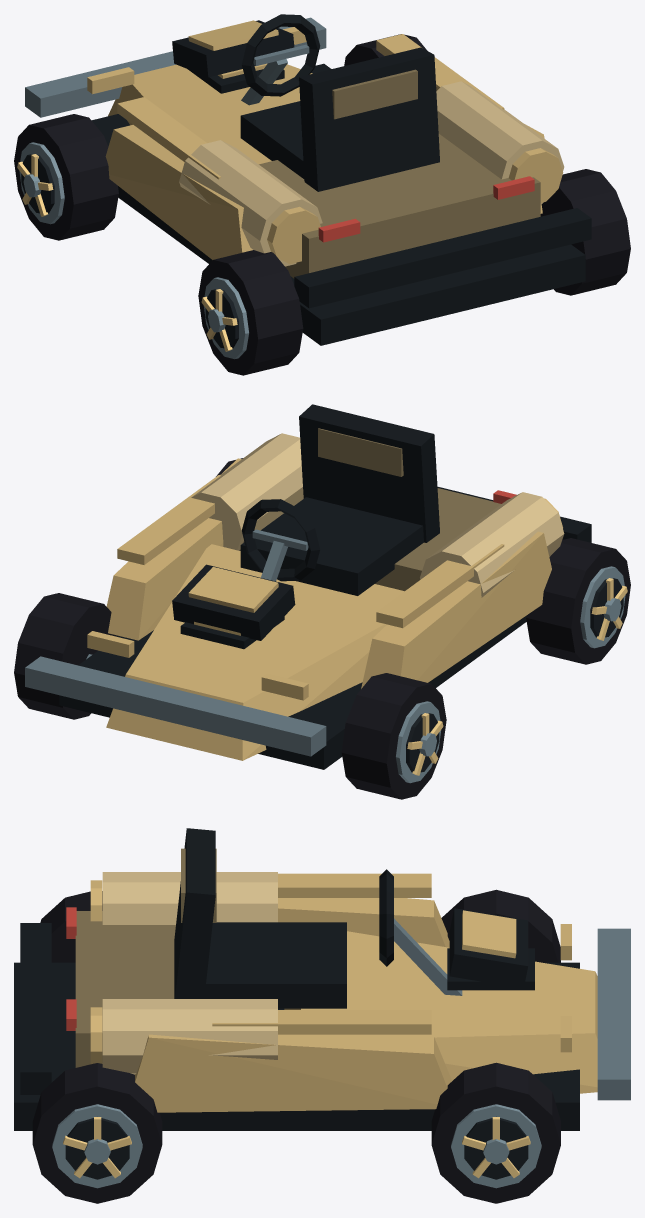
The model's file is kart.glb.
The picture shows the model from 3 angles, top to bottom: view 1: azimuth 30°, elevation 25°; view 2: azimuth 150°, elevation 25°; view 3: azimuth 270°, elevation 25°; orthographic projection. The views are drawn at different scales.
Parts seen in each view (by area): view 1: chassis, wheel-rear-left, wheel-front-left, wheel-rear-right, wheel-front-right; view 2: chassis, wheel-front-left, wheel-rear-left, wheel-front-right; view 3: chassis, wheel-front-right, wheel-rear-right, wheel-front-left, wheel-rear-left.
Boxes of the visible parts, box(x1,y1,x2,y2) form: chassis: box(25, 14, 591, 345); wheel-rear-left: box(198, 250, 303, 375); wheel-front-left: box(14, 114, 118, 240); wheel-rear-right: box(540, 169, 630, 295); wheel-front-right: box(344, 34, 427, 65); chassis: box(25, 404, 591, 769); wheel-front-left: box(341, 673, 446, 799); wheel-rear-left: box(526, 538, 630, 664); wheel-front-right: box(14, 593, 117, 719); chassis: box(14, 828, 630, 1130); wheel-front-right: box(431, 1062, 560, 1203); wheel-rear-right: box(32, 1063, 162, 1203); wheel-front-left: box(441, 889, 560, 962); wheel-rear-left: box(40, 891, 102, 962).
Size of the model in its own units: 2.4 by 1.3 by 2.96.
